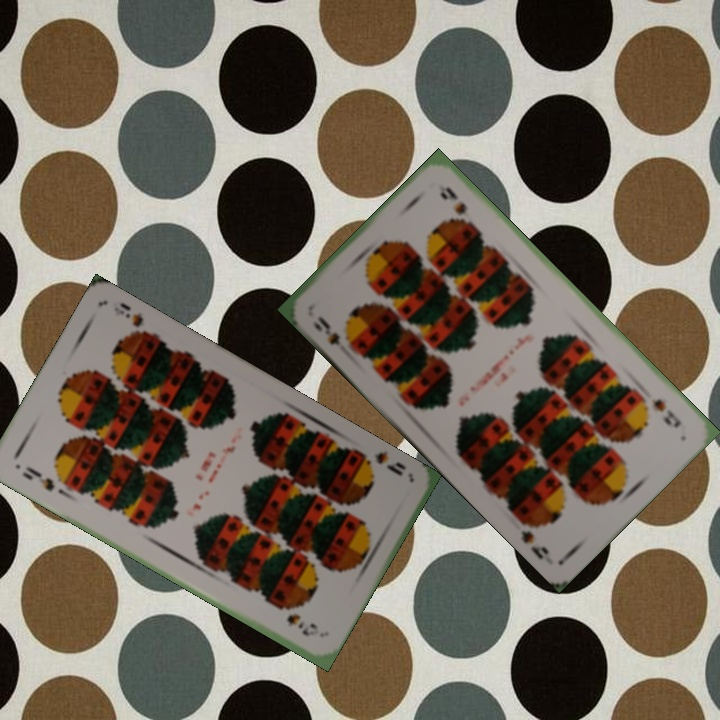S9: (309, 311, 355, 353), (356, 447, 409, 479), (647, 394, 684, 431), (18, 462, 57, 494)
